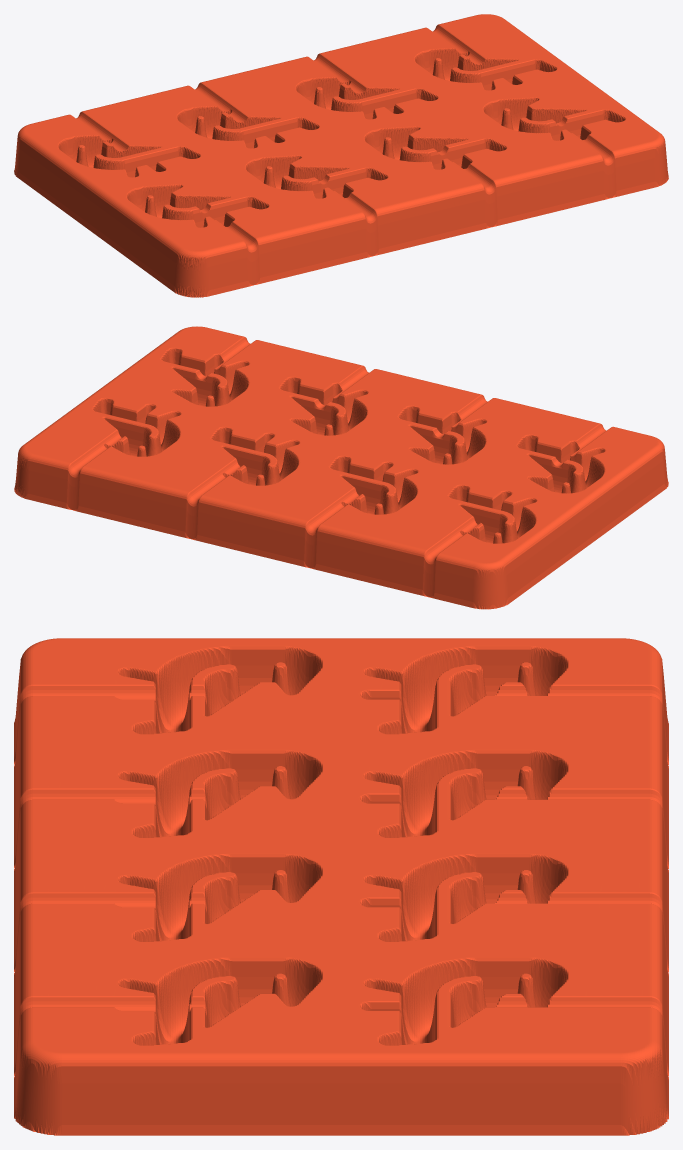
The model's file is mold.glb.
3 views of the same model, one above another, from view 1: azimuth 30°, elevation 25°; view 2: azimuth 150°, elevation 25°; view 3: azimuth 270°, elevation 25° (orthographic). The views are drawn at different scales.
Visible parts, largest first — view 1: geometry_0; view 2: geometry_0; view 3: geometry_0.
Part boxes in pixels (box(x1,y1,x2,y2)): geometry_0: box(14, 14, 668, 297); geometry_0: box(14, 326, 668, 609); geometry_0: box(14, 638, 668, 1135).
Size of the model in its own units: 0.1907 by 0.0155 by 0.1229.
